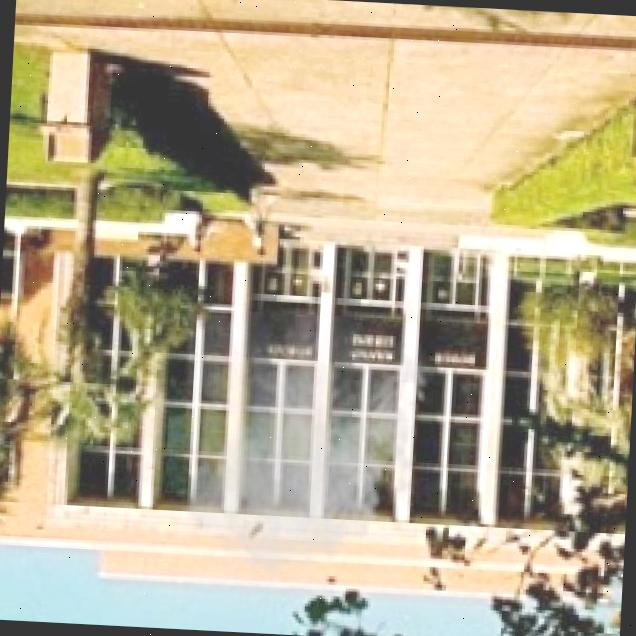smoke: (174, 308, 437, 604)
